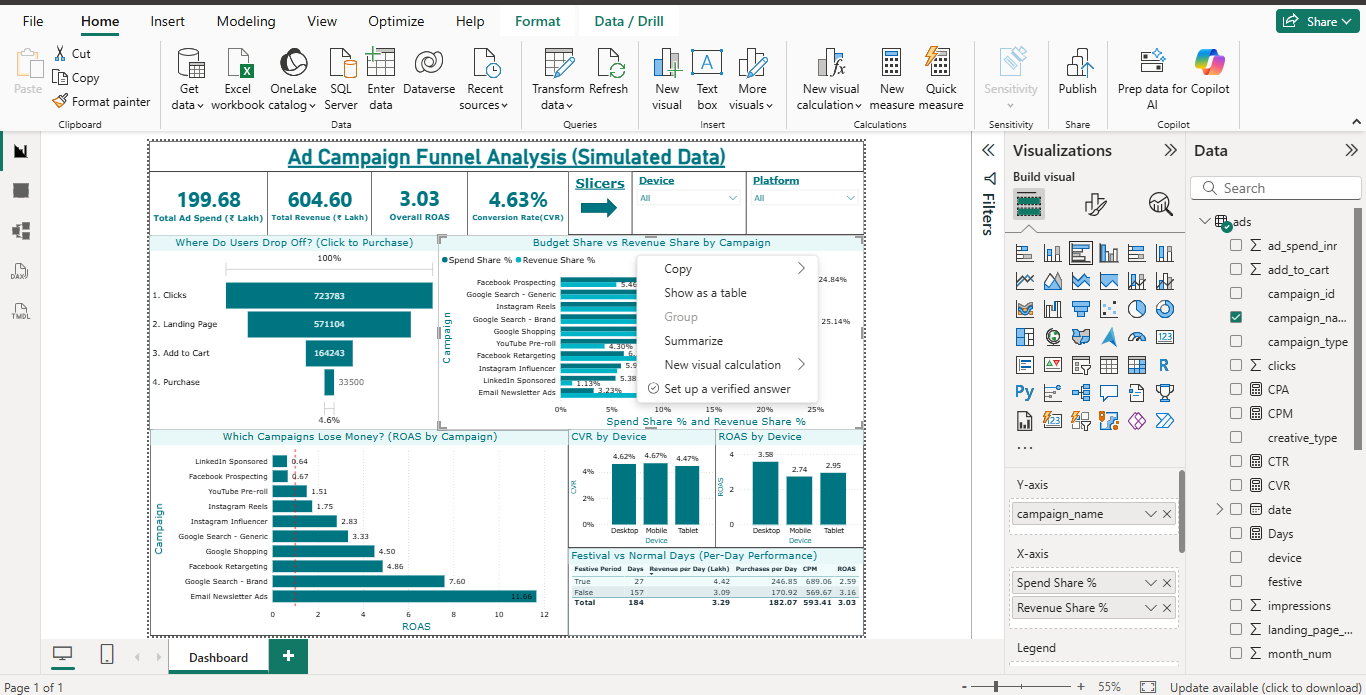

Layout of this report page (visuals, bound fields, positions):
{"tool":"powerbi","page":{"name":"Dashboard","canvas":[1300,900],"ordinal":0},"visuals":[{"type":"card","fields":{"Values":["ads.Spend (Lakh)"]},"box":[0,53.8,216.2,118.8],"z":0},{"type":"card","fields":{"Values":["ads.Revenue (Lakh)"]},"box":[214,54,192,118],"z":1000},{"type":"card","fields":{"Values":["ads.ROAS"]},"box":[404,52,177,120],"z":2000},{"type":"card","fields":{"Values":["ads.CVR"]},"box":[578,52,186,120],"z":3000},{"type":"funnel","title":"Where Do Users Drop Off? (Click to Purchase)","fields":{"Category":["Funnel Stages.Stage"],"Y":["Funnel Stages.Funnel Users"]},"box":[0,170,526.7,355],"z":4000},{"type":"clusteredBarChart","title":"Which Campaigns Lose Money? (ROAS by Campaign)","fields":{"Category":["ads.campaign_name"],"Y":["ads.ROAS"]},"box":[1.2,523.8,761.2,376.2],"z":5000},{"type":"clusteredBarChart","title":"Budget Share vs Revenue Share by Campaign","fields":{"Category":["ads.campaign_name"],"Y":["ads.Spend Share %","ads.Revenue Share %"]},"box":[525,170,775,355],"z":6000},{"type":"clusteredColumnChart","title":"CVR by Device","fields":{"Category":["ads.device"],"Y":["ads.CVR"]},"box":[761.4,524.3,270,215.7],"z":7000},{"type":"clusteredColumnChart","title":"ROAS by Device","fields":{"Y":["ads.ROAS"],"Category":["ads.device"]},"box":[1028.6,524.3,271.4,215.7],"z":8000},{"type":"tableEx","title":"Festival vs Normal Days (Per-Day Performance)","fields":{"Values":["ads.festive","ads.Days","ads.Revenue per Day (Lakh)","ads.Purchases per Day","ads.CPM","ads.ROAS"]},"box":[761.7,740,538.3,160],"z":9000},{"type":"slicer","fields":{"Values":["ads.platform"]},"box":[1083.3,55,216.7,116],"z":10000},{"type":"slicer","fields":{"Values":["ads.device"]},"box":[876.7,55,210,116],"z":11000},{"type":"textbox","box":[0,0,1300,56.2],"z":12000},{"type":"textbox","box":[761.7,55,116.7,116],"z":13000},{"type":"shape","box":[785.7,102.9,65.7,35.7],"z":14000}]}

Visuals, with their boxes on the page's 1300x900 design canvas (x1, y1, x2, y2). These are canvas units, not pixel positions in the 1366x695 screenshot, which may show the page scaled, cropped or inside an application window:
card - ads.Spend (Lakh): region(0, 54, 216, 173)
card - ads.Revenue (Lakh): region(214, 54, 406, 172)
card - ads.ROAS: region(404, 52, 581, 172)
card - ads.CVR: region(578, 52, 764, 172)
"Where Do Users Drop Off? (Click to Purchase)" funnel: region(0, 170, 527, 525)
"Which Campaigns Lose Money? (ROAS by Campaign)" clusteredBarChart: region(1, 524, 762, 900)
"Budget Share vs Revenue Share by Campaign" clusteredBarChart: region(525, 170, 1300, 525)
"CVR by Device" clusteredColumnChart: region(761, 524, 1031, 740)
"ROAS by Device" clusteredColumnChart: region(1029, 524, 1300, 740)
"Festival vs Normal Days (Per-Day Performance)" tableEx: region(762, 740, 1300, 900)
slicer - ads.platform: region(1083, 55, 1300, 171)
slicer - ads.device: region(877, 55, 1087, 171)
textbox: region(0, 0, 1300, 56)
textbox: region(762, 55, 878, 171)
shape: region(786, 103, 851, 139)
